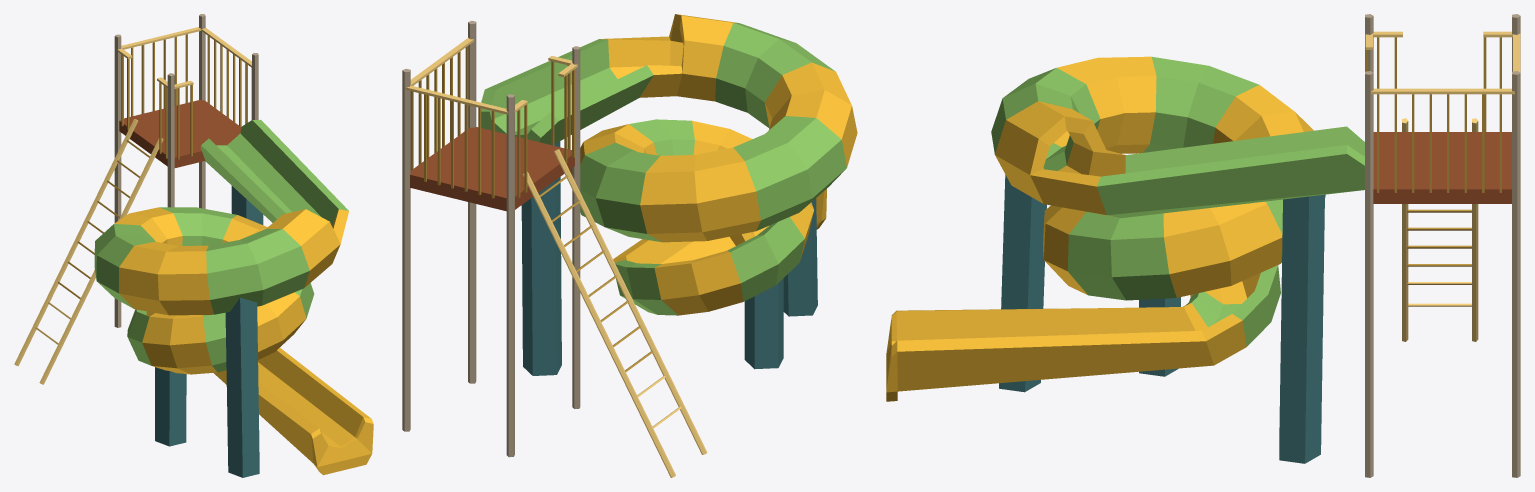
Rendered from WaterSlide.fbx.
The picture shows the model from 3 angles, left to right: view 1: azimuth 30°, elevation 25°; view 2: azimuth 150°, elevation 25°; view 3: azimuth 270°, elevation 25°; orthographic projection. The views are drawn at different scales.
Visible parts, largest first — view 1: WaterSlide; view 2: WaterSlide; view 3: WaterSlide.
Part boxes in pixels (x1,y1,x2,y2): WaterSlide: (14,14,373,477); WaterSlide: (402,14,857,477); WaterSlide: (886,14,1520,477).
Bounding box in the file's own units: 203 × 255 × 362.
